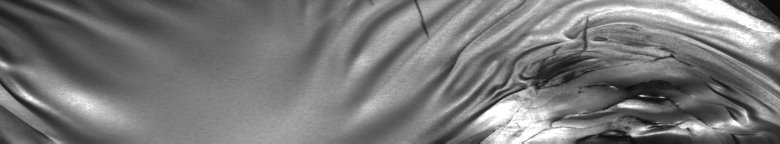ke: (416, 4, 776, 136)
